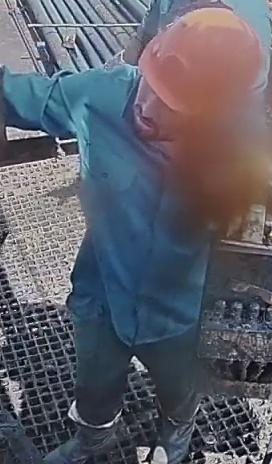helmet: (137, 7, 266, 114)
vest: (41, 59, 216, 346)
